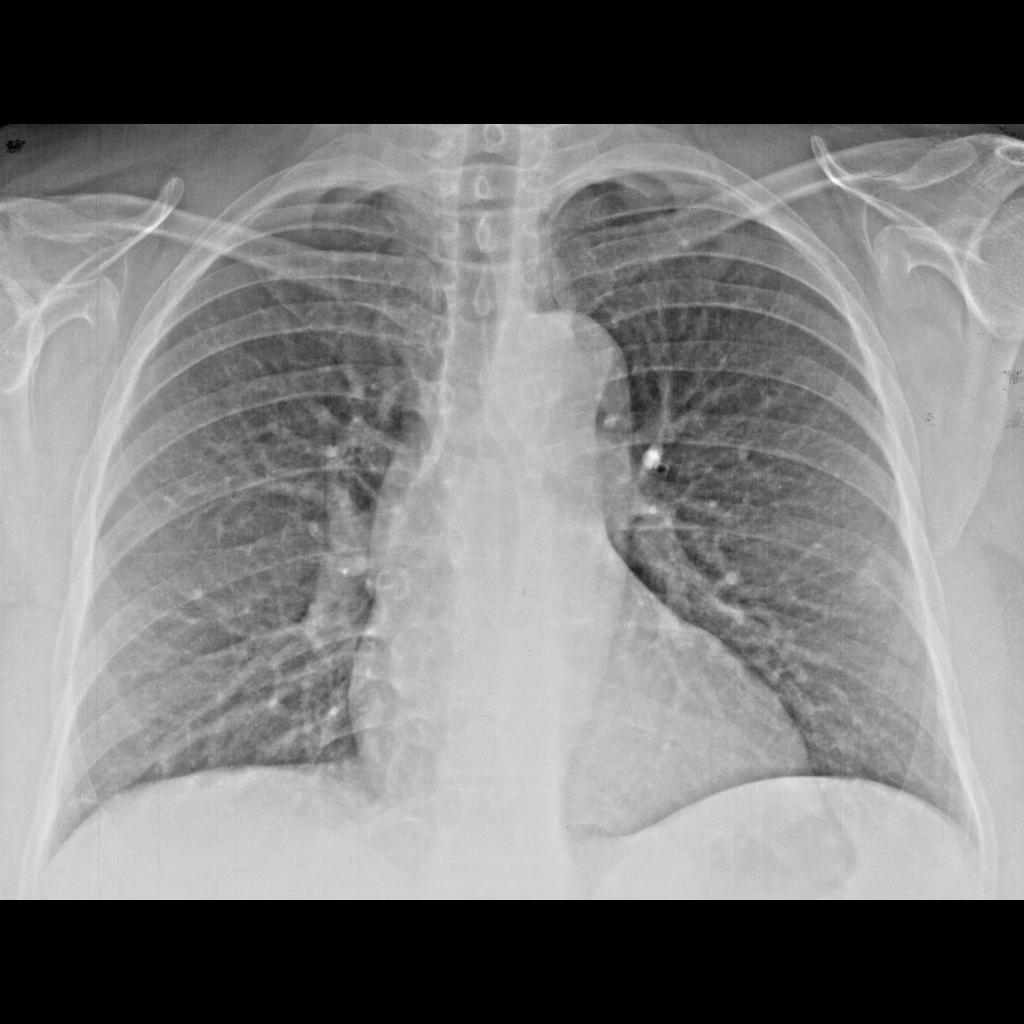Nodule: (848, 563, 892, 607)
